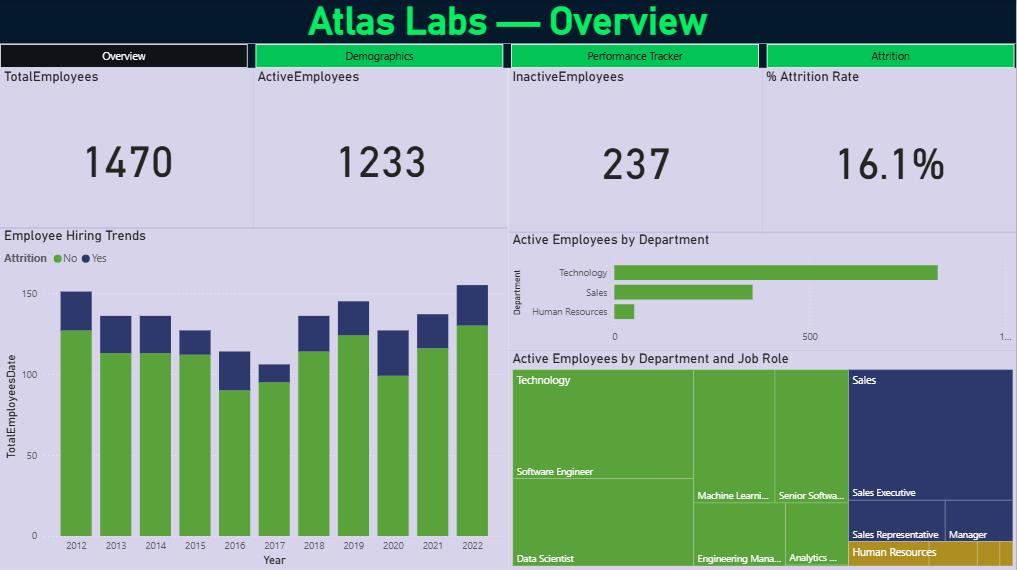

Layout of this report page (visuals, bound fields, positions):
{"tool":"powerbi","page":{"name":"Overview","canvas":[1280,720],"ordinal":0},"visuals":[{"type":"card","title":"TotalEmployees","fields":{"Values":["_Measures.TotalEmployees"]},"box":[0,86,320,202.6],"z":0},{"type":"card","title":"ActiveEmployees","fields":{"Values":["_Measures.ActiveEmployees"]},"box":[320,86,320,202.6],"z":1000},{"type":"card","title":"InactiveEmployees","fields":{"Values":["_Measures.InactiveEmployees"]},"box":[640,86,320,208],"z":2000},{"type":"card","title":"% Attrition Rate","fields":{"Values":["_Measures.% Attrition Rate"]},"box":[960,86,320,208],"z":3000},{"type":"columnChart","title":"Employee Hiring Trends","fields":{"Category":["DimDate.Date.Variation.Date Hierarchy.Year","DimDate.Date.Variation.Date Hierarchy.Quarter","DimDate.Date.Variation.Date Hierarchy.Month","DimDate.Date.Variation.Date Hierarchy.Day"],"Y":["_Measures.TotalEmployeesDate"],"Series":["DimEmployee.Attrition"]},"box":[0,288,640,432],"z":4000},{"type":"clusteredBarChart","title":"Active Employees by Department","fields":{"Category":["DimEmployee.Department"],"Y":["_Measures.ActiveEmployees"]},"box":[640,293,640,149.9],"z":5000},{"type":"treemap","title":"Active Employees by Department and Job Role","fields":{"Values":["_Measures.ActiveEmployees"],"Group":["DimEmployee.Department"],"Details":["DimEmployee.JobRole"]},"box":[640,442.9,640,277.1],"z":6000},{"type":"shape","title":"Atlas Labs — Overview","box":[0,0,1280,56],"z":7000},{"type":"pageNavigator","box":[0,56,1280,30],"z":8000}]}

Visuals, with their boxes in screenshot pixels (x1, y1, x2, y2), scaled from the page's 1280x720 canvas onto the 1017x570 screenshot:
"TotalEmployees" card: [0,68,254,228]
"ActiveEmployees" card: [254,68,508,228]
"InactiveEmployees" card: [508,68,763,233]
"% Attrition Rate" card: [763,68,1016,233]
"Employee Hiring Trends" columnChart: [0,228,508,569]
"Active Employees by Department" clusteredBarChart: [508,232,1016,351]
"Active Employees by Department and Job Role" treemap: [508,351,1016,569]
"Atlas Labs — Overview" shape: [0,0,1016,44]
pageNavigator: [0,44,1016,68]
